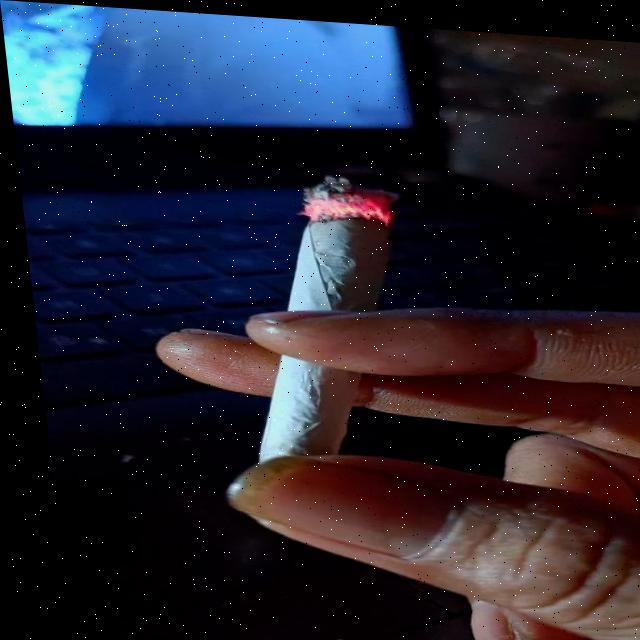cigarette: (215, 167, 421, 472)
